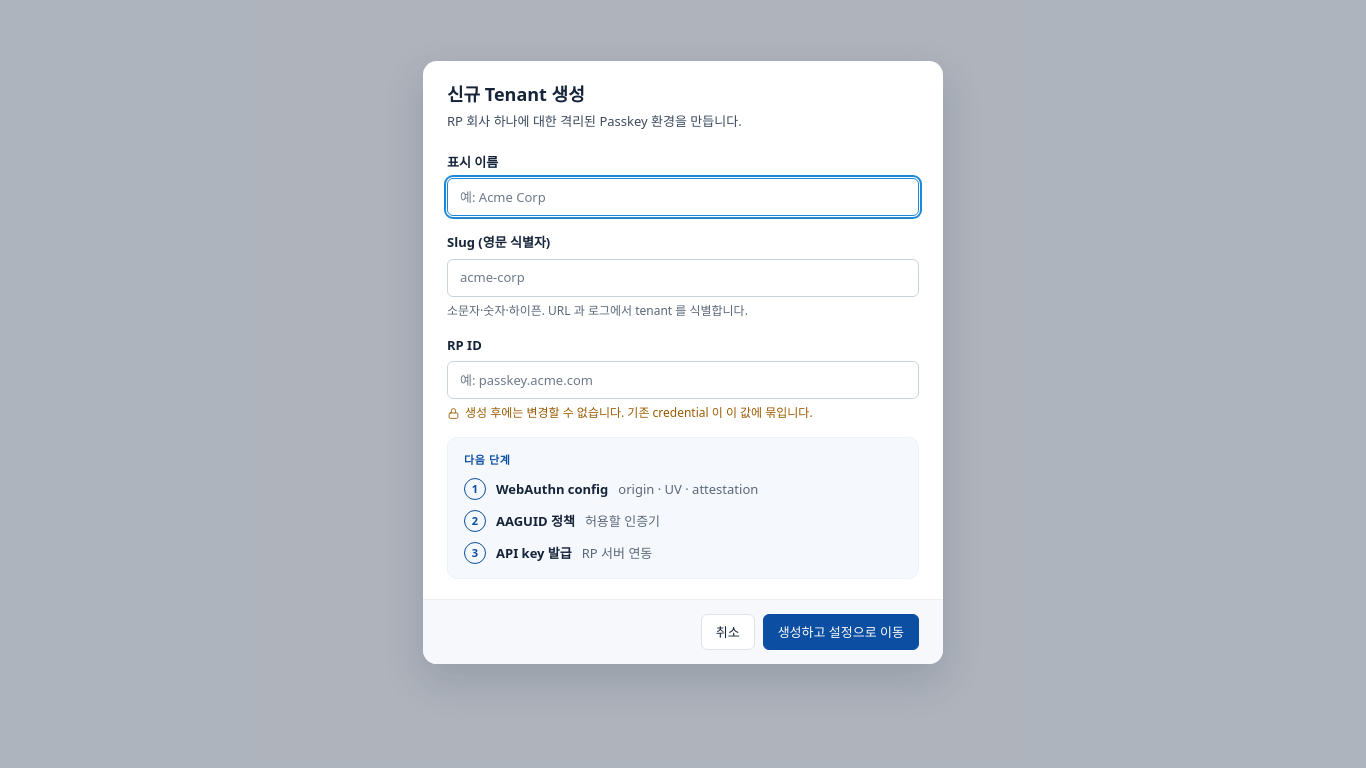
Scenario: NewTenantDialog › V2: placeholder 도메인 rpId 는 제출 시 오류를 보이고 생성하지 않는다
Type "Acme" into the field with placeholder "예: Acme Corp".
click(683, 197); type("Acme")  # box [447,178,919,216]
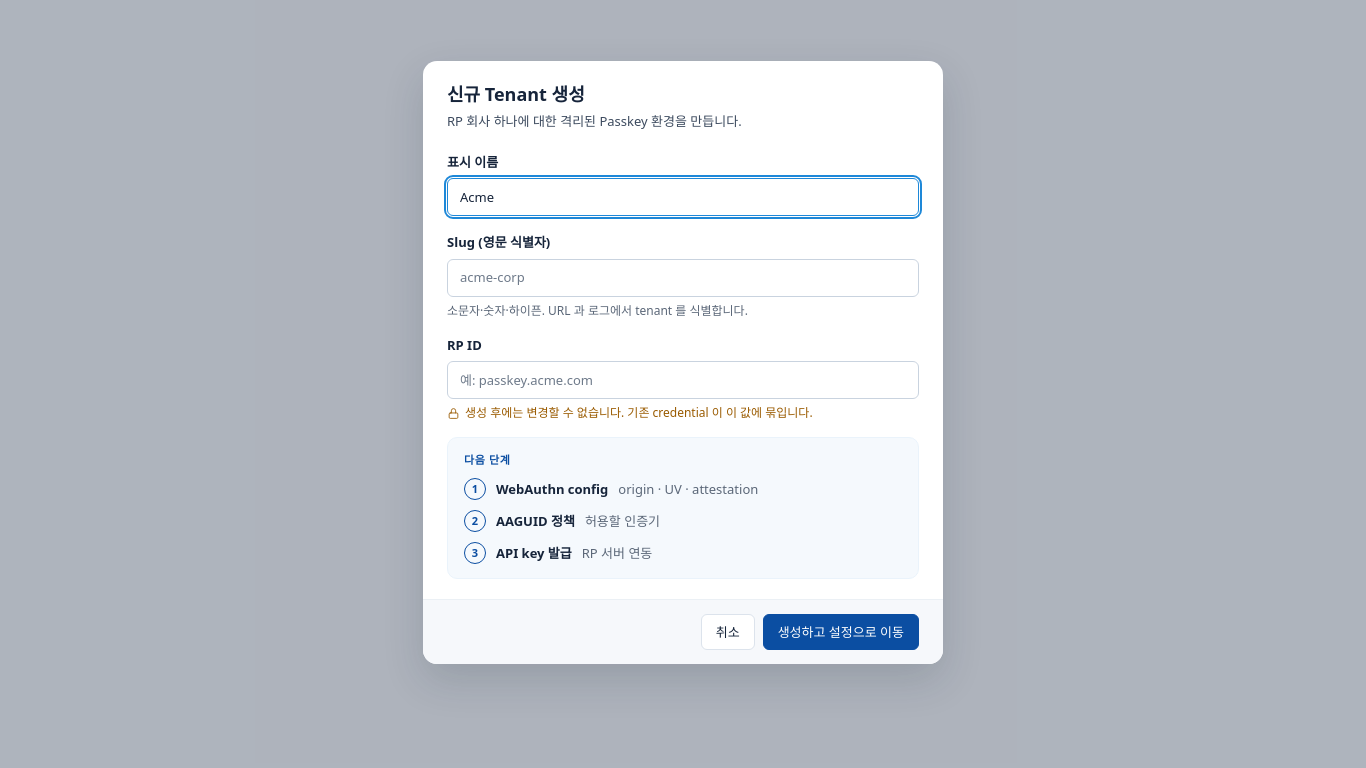
Type "acme" into the field with placeholder "acme-corp".
click(683, 278); type("acme")  # box [447,259,919,297]
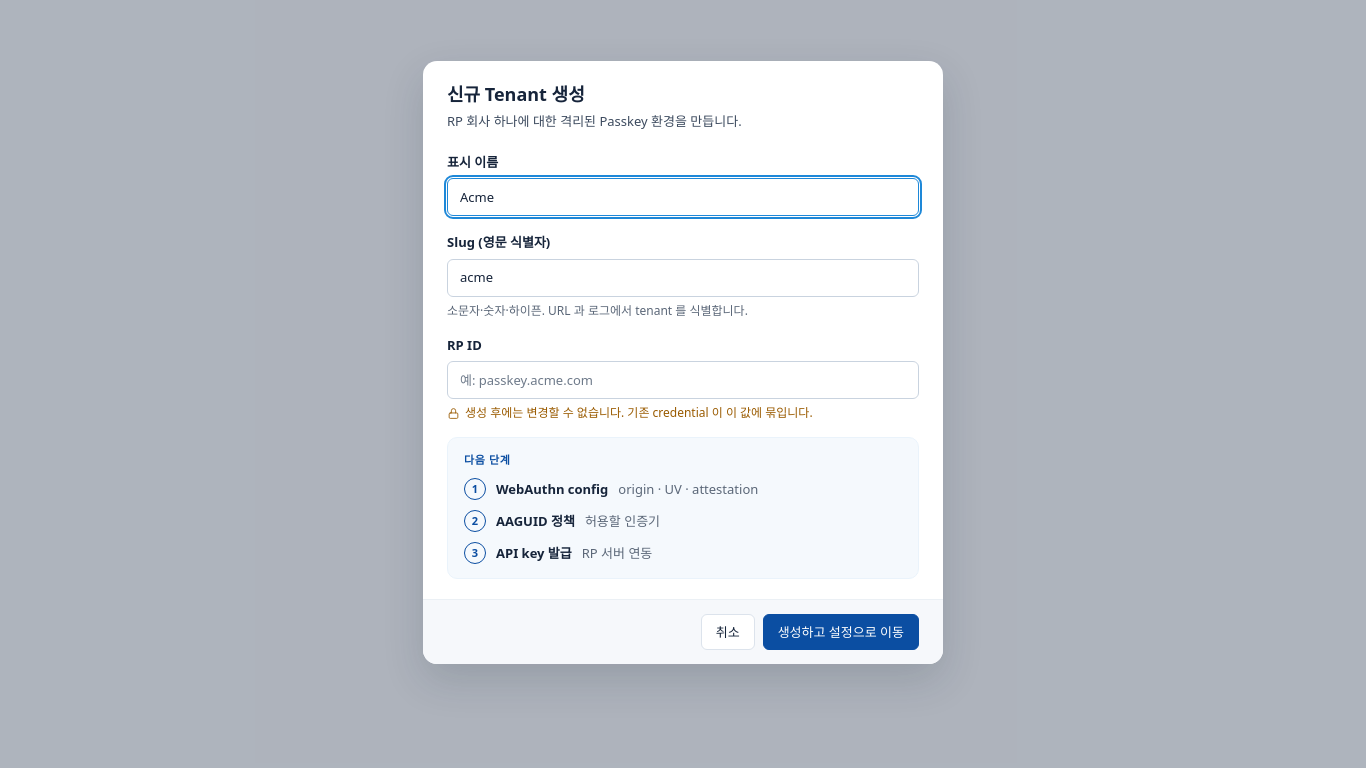
Type "passkey.example.com" into the field with placeholder "예: passkey.acme.com".
click(683, 380); type("passkey.example.com")  # box [447,361,919,399]
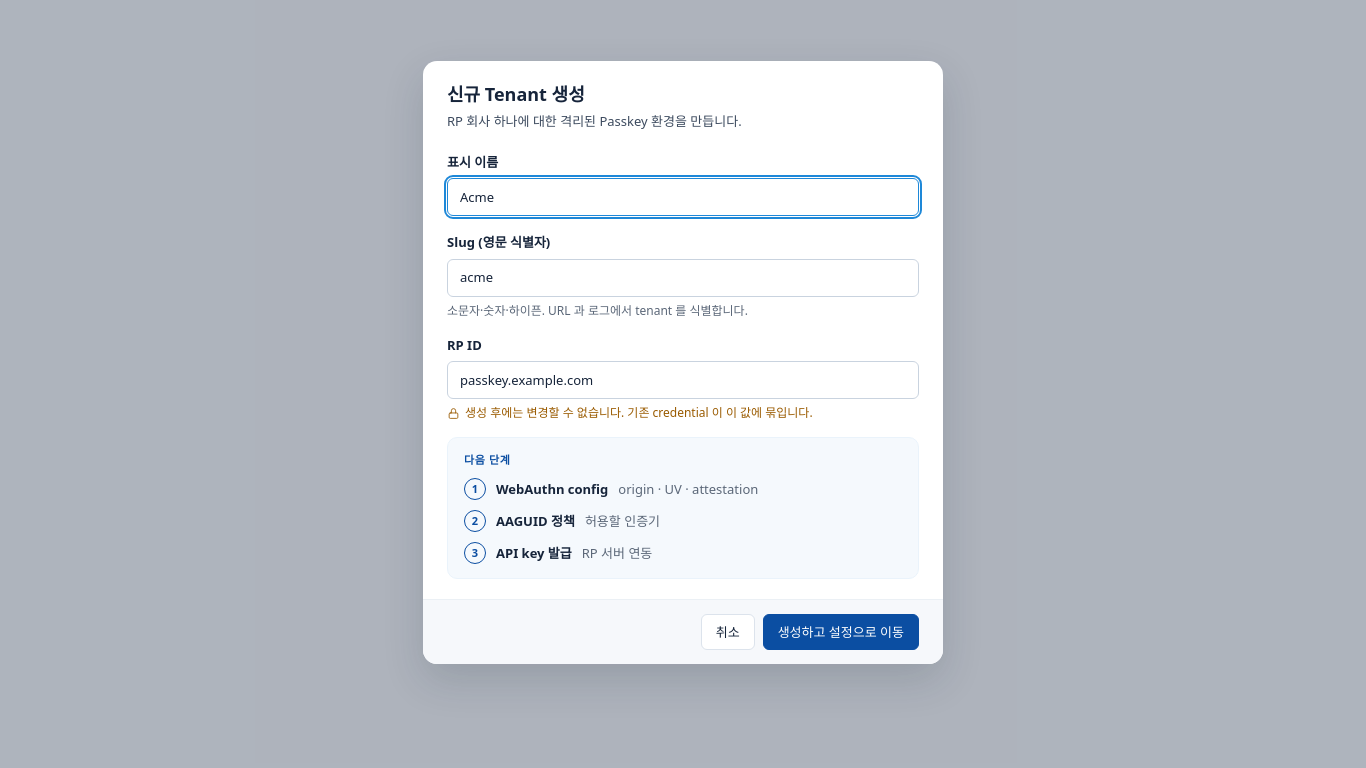
Click the button "생성하고 설정으로 이동".
click(841, 632)  # box [763,614,919,650]
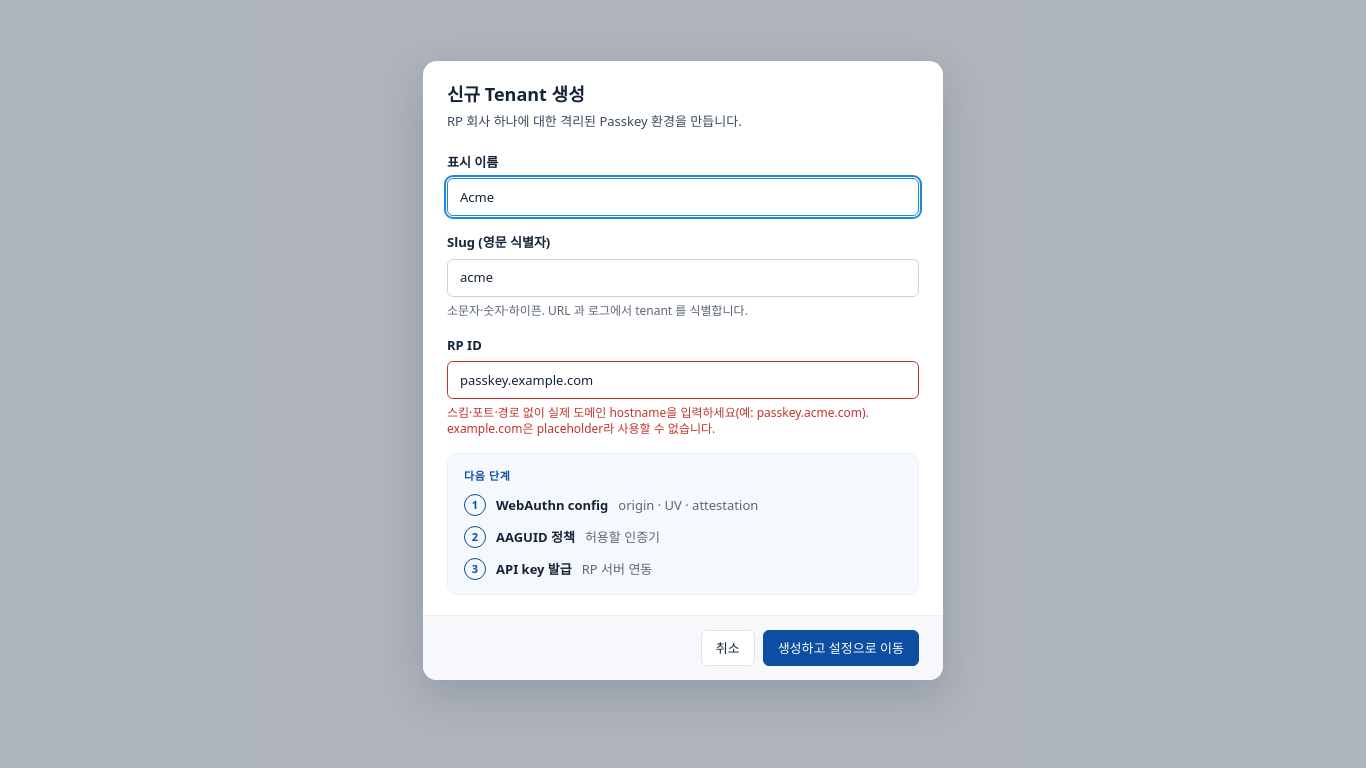
Result: the text "example.com은 placeholder라 사용할 수 없습니다" is shown at [447,404,869,437]
